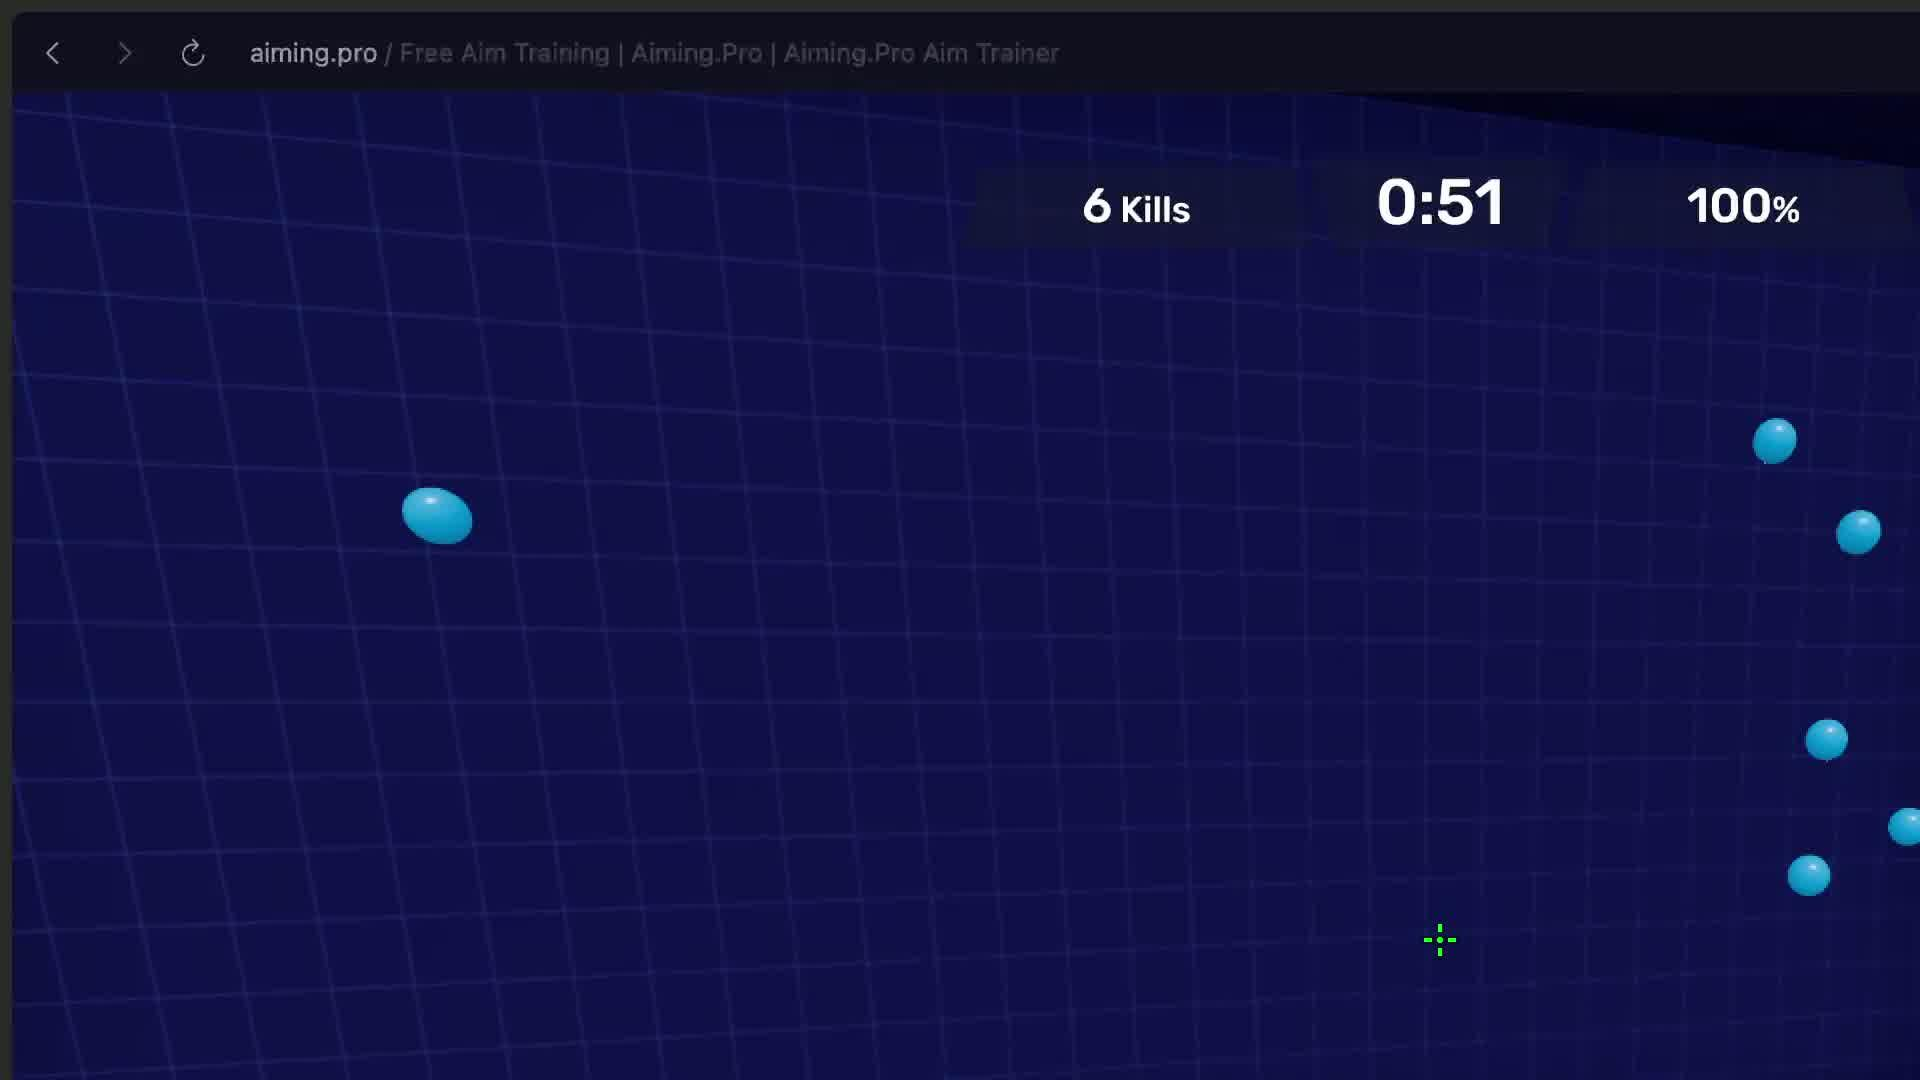target: (402, 488, 473, 545), (1837, 510, 1882, 554), (1787, 855, 1832, 895), (1805, 720, 1847, 760), (1754, 421, 1793, 463), (1888, 808, 1919, 845)
